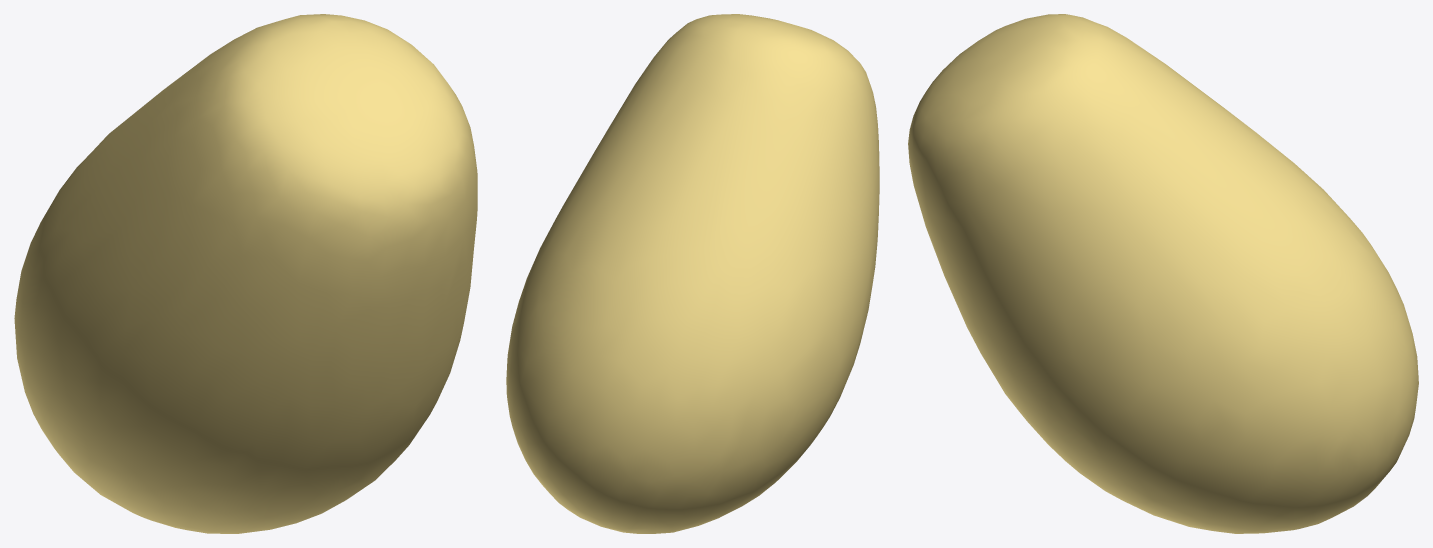
The model's file is fma73682_mm2481.glb.
3 renders of one model, left to right at view 1: azimuth 30°, elevation 25°; view 2: azimuth 150°, elevation 25°; view 3: azimuth 270°, elevation 25°, orthographic. The views are drawn at different scales.
Visible parts, largest first — view 1: FMA73682_MM2481; view 2: FMA73682_MM2481; view 3: FMA73682_MM2481.
Part boxes in pixels (x1,y1,x2,y2): FMA73682_MM2481: (14,14,477,533); FMA73682_MM2481: (506,14,879,533); FMA73682_MM2481: (908,14,1418,533).
Size of the model in its own units: 0.00278 by 0.00401 by 0.00382.
